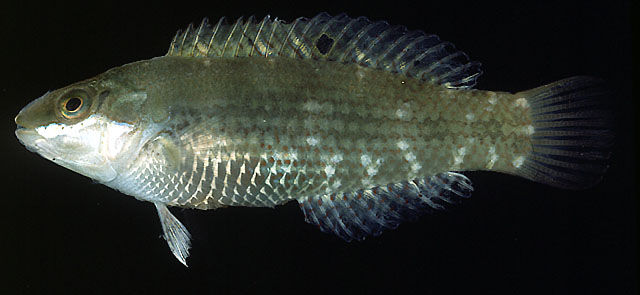fish: (15, 15, 600, 268)
